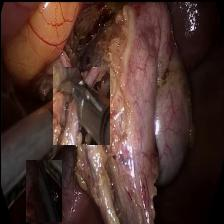Clipper: (52, 66, 109, 144)
Grasper: (25, 159, 61, 221)
